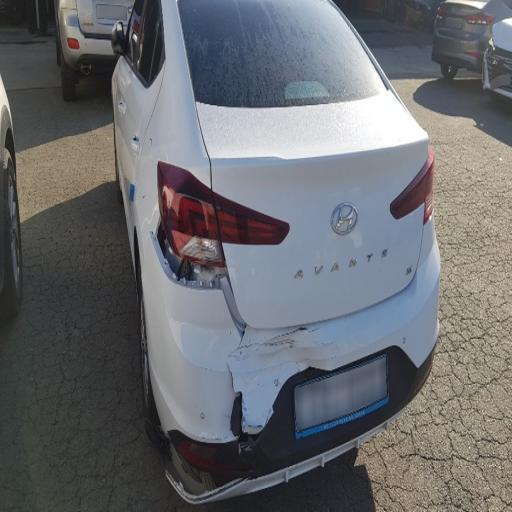broken: (139, 131, 380, 477)
